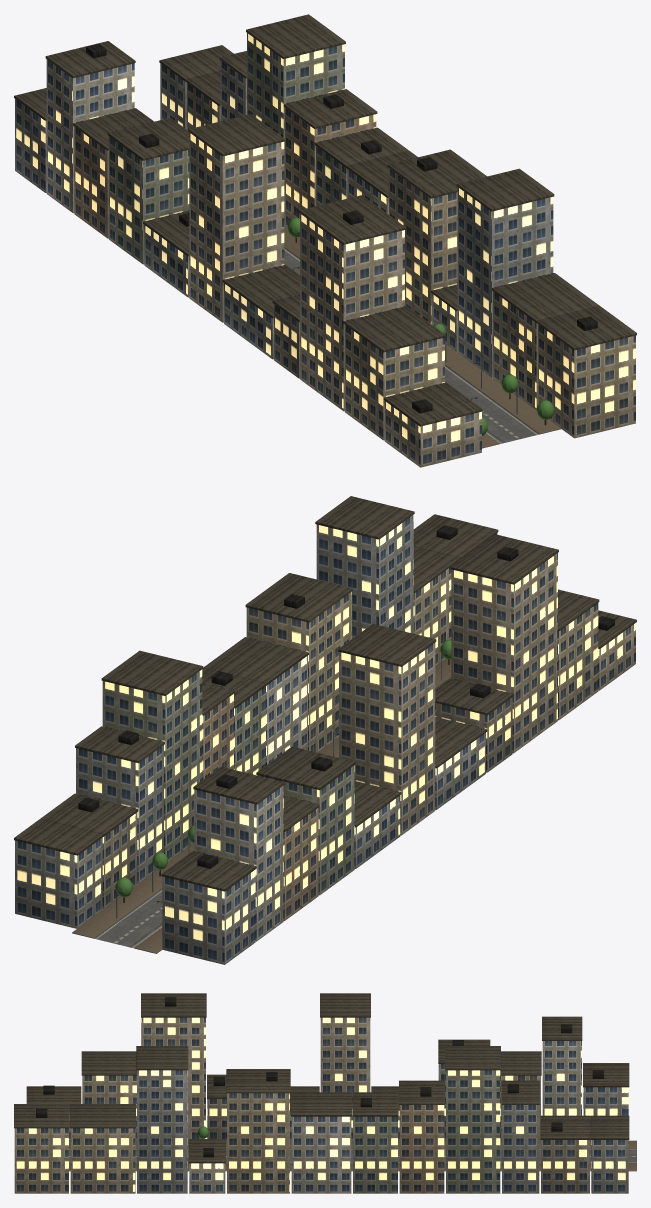
File: street.glb
3 views of the same model, one above another, from view 1: azimuth 30°, elevation 25°; view 2: azimuth 150°, elevation 25°; view 3: azimuth 270°, elevation 25° (orthographic). The views are drawn at different scales.
Parts seen in each view (by area): view 1: street; view 2: street; view 3: street.
Part boxes in pixels (bbox=[...]): street: bbox=[14, 14, 636, 467]; street: bbox=[14, 496, 636, 964]; street: bbox=[14, 993, 636, 1193].
Bounding box in the file's own units: 47.3 × 38 × 165.
Materials: 8 (6 with a texture image).
